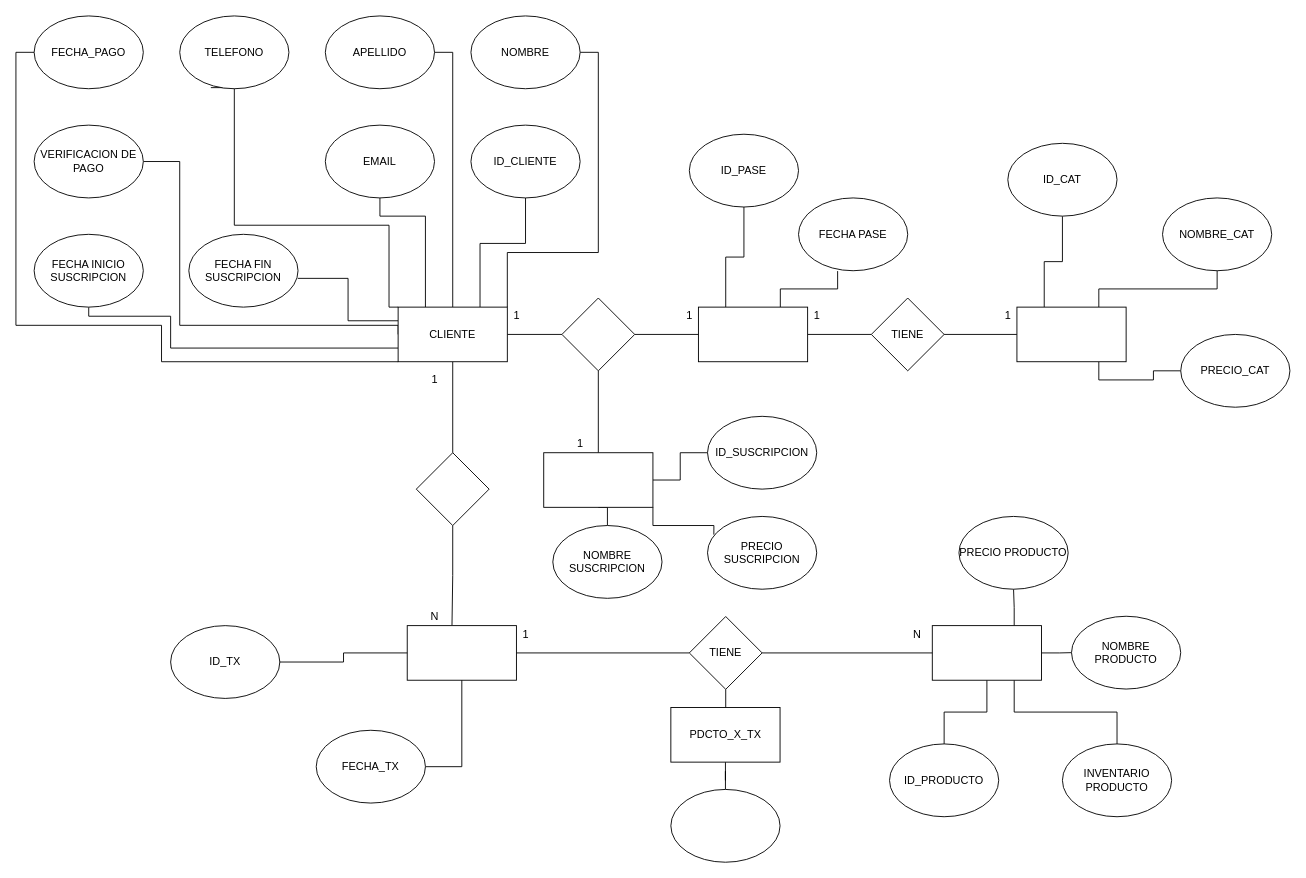
The diagram is 1306 pixels wide and 878 high, and some of its shapes have lost their labels. The shapes that lost their labels are listed below. From the top down, each one's centre as x and y in pixels, then its label:
At [598,334]: "COMPRA".
At [753,334]: "PASE_DIARIO".
At [1071,334]: "CATEGORIA_PASE".
At [452,489]: "REALIZA".
At [598,479]: "SUSCRIPCION".
At [461,652]: "TRANSACCION".
At [986,652]: "PRODUCTO".
At [725,825]: "CANTIDAD PDCTOTX".
